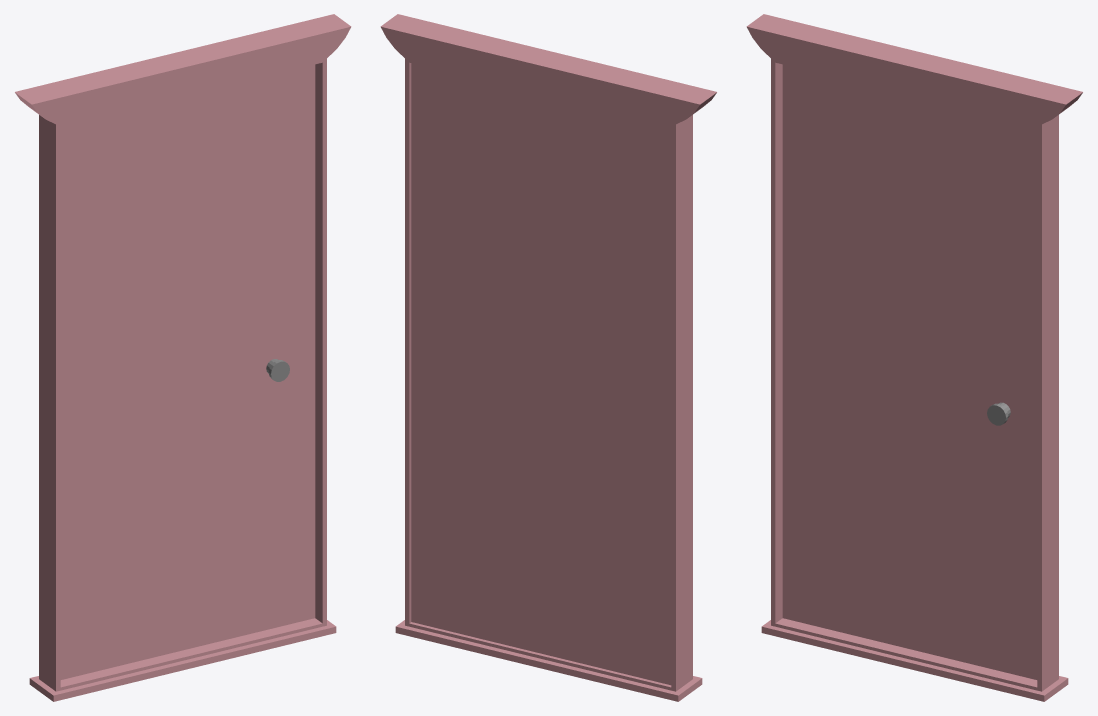
The model's file is Door.fbx.
3 renders of one model, left to right at view 1: azimuth 30°, elevation 25°; view 2: azimuth 150°, elevation 25°; view 3: azimuth 330°, elevation 25°, orthographic.
Visible parts, largest first — view 1: Cube; view 2: Cube; view 3: Cube.
Part boxes in pixels (left/top/right/bottom): Cube: left=15, top=14, right=351, bottom=701; Cube: left=380, top=14, right=716, bottom=701; Cube: left=746, top=14, right=1082, bottom=701.
Bounding box in the file's own units: 118 × 211 × 15.29.
